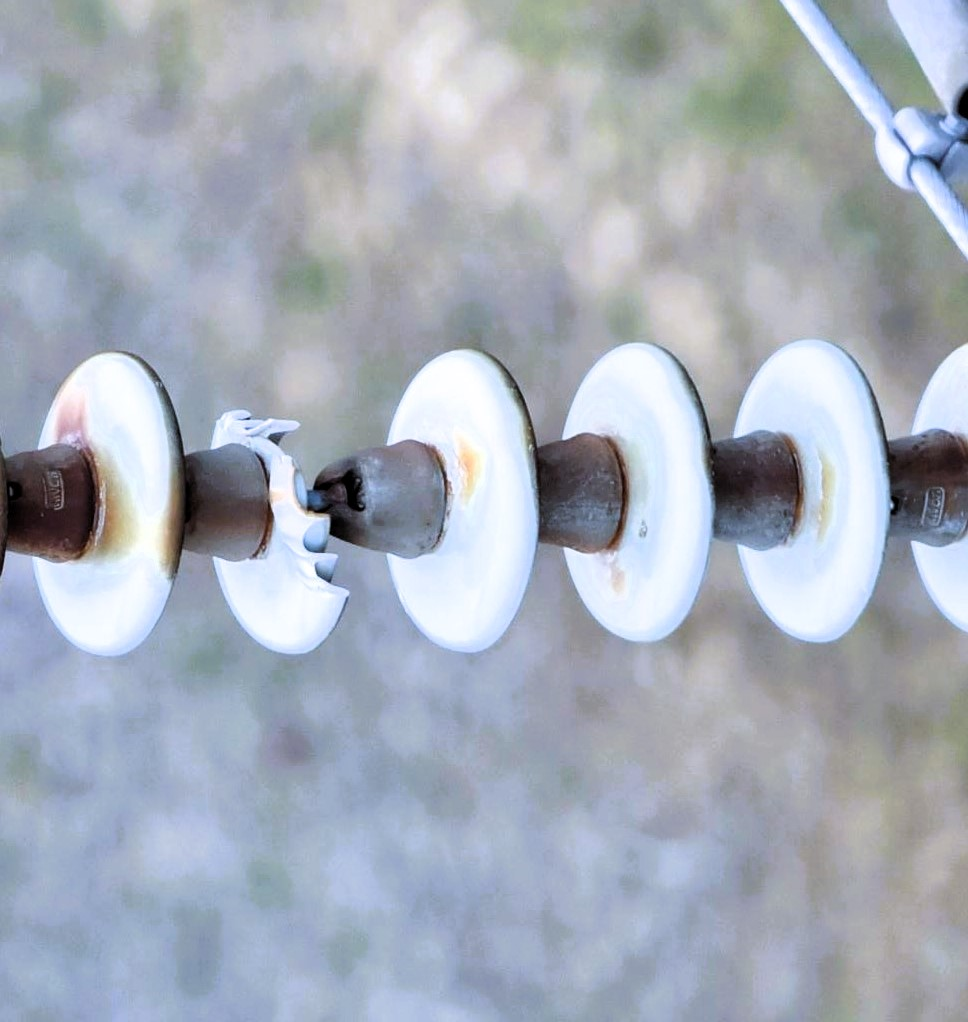insulator breakage: (206, 387, 358, 669)
